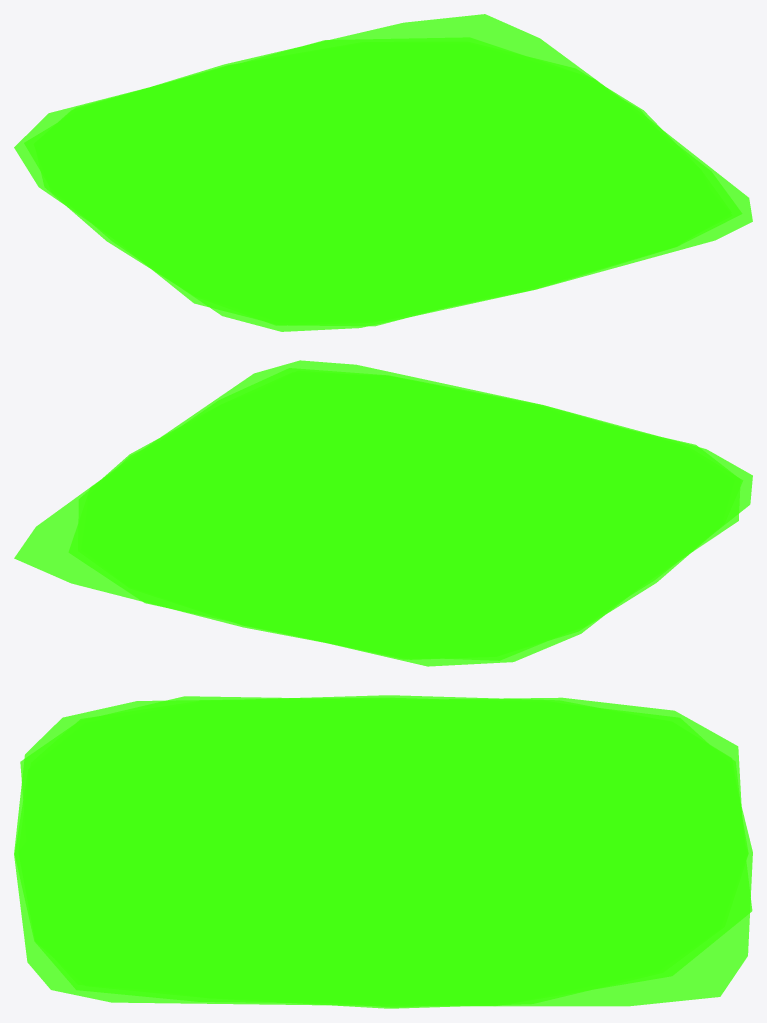
The picture shows the model from 3 angles, top to bottom: view 1: azimuth 30°, elevation 25°; view 2: azimuth 150°, elevation 25°; view 3: azimuth 270°, elevation 25°; orthographic projection. The views are drawn at different scales.
Visible parts, largest first — view 1: grid_3, grid_1, grid_2, grid_5, grid_4; view 2: grid_1, grid_3, grid_4, grid_2, grid_5; view 3: grid_1, grid_3, grid_5, grid_4, grid_2.
Boxes of the visible parts, x1,y1,x2,y2 form: grid_3: (24,14,752,331); grid_1: (34,41,731,325); grid_2: (55,43,719,308); grid_5: (35,43,687,326); grid_4: (14,37,741,322); grid_1: (78,372,741,659); grid_3: (14,360,752,660); grid_4: (68,368,734,666); grid_2: (85,376,713,651); grid_5: (87,371,739,659); grid_1: (19,695,748,1008); grid_3: (14,698,752,1006); grid_5: (20,696,746,1007); grid_4: (15,697,752,1006); grid_2: (18,701,748,1002).
Bounding box in the file's own units: 100 × 0 × 99.58.
